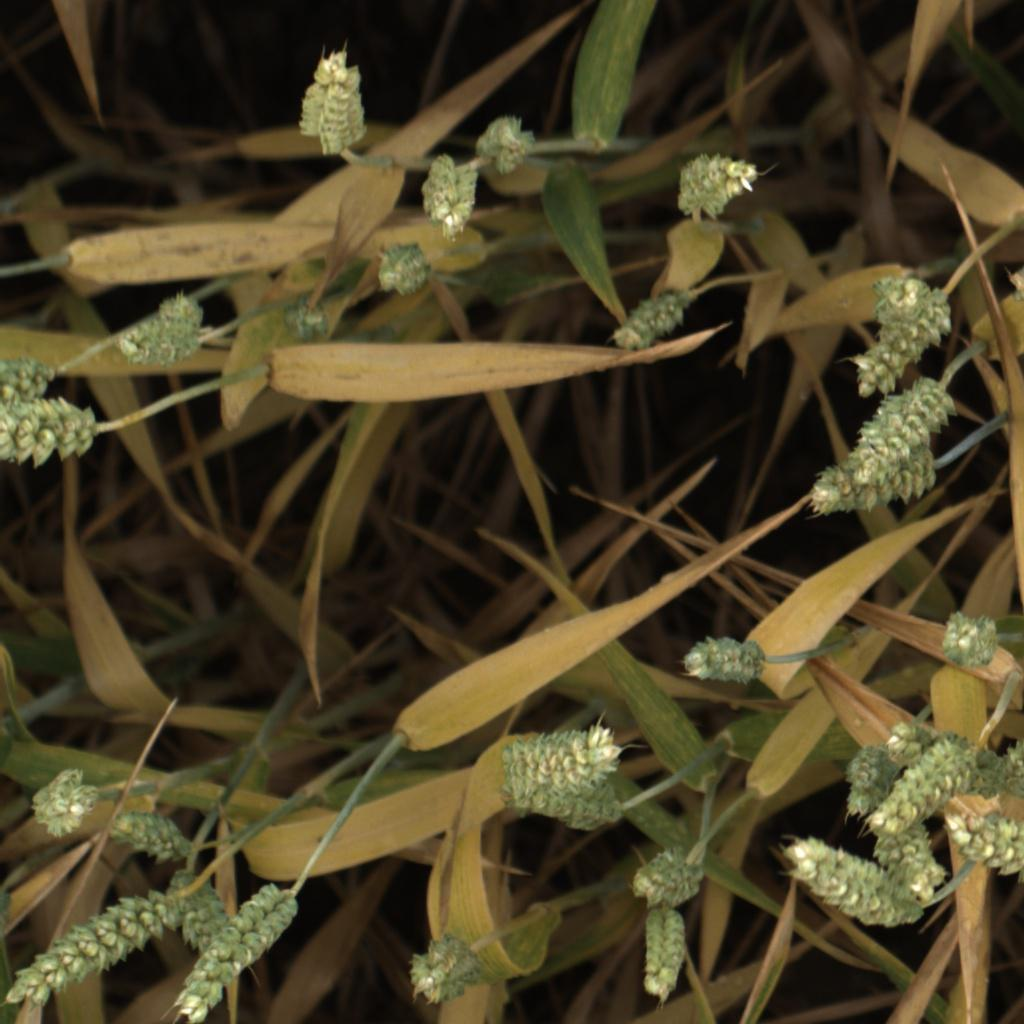0-0: (3, 897, 176, 1018), (171, 887, 312, 1024), (770, 831, 916, 939), (842, 387, 949, 494), (841, 294, 940, 400), (789, 451, 935, 519), (856, 806, 957, 902), (487, 719, 633, 785), (295, 40, 370, 161), (110, 289, 212, 373), (673, 138, 768, 227), (398, 923, 486, 1018), (502, 775, 631, 838), (888, 742, 976, 831), (607, 275, 694, 361), (926, 600, 1013, 680), (2, 397, 96, 468), (866, 253, 948, 334), (678, 626, 771, 697), (165, 874, 246, 953), (103, 801, 202, 865), (637, 906, 693, 1016), (418, 155, 479, 249), (624, 844, 711, 909), (30, 764, 97, 845), (951, 810, 1024, 884), (265, 295, 346, 360), (472, 104, 542, 179), (363, 239, 438, 303), (838, 743, 898, 823), (971, 735, 1024, 807), (0, 349, 63, 404), (882, 711, 945, 761)
